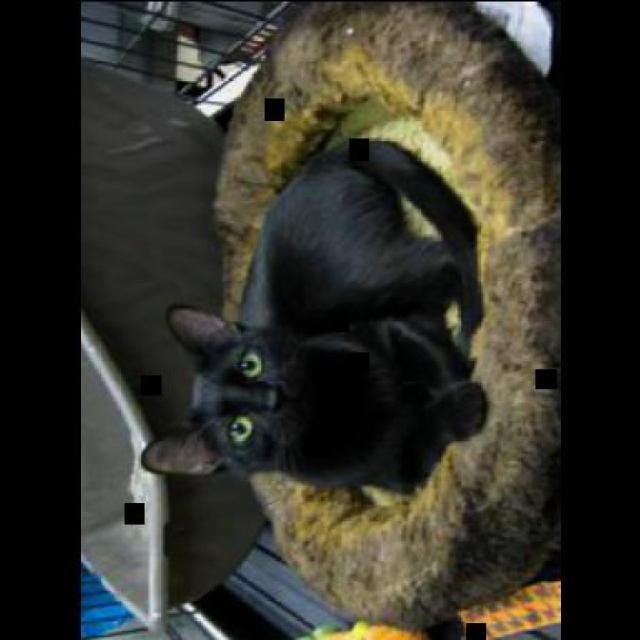unauthorized: (140, 0, 560, 635), (140, 136, 489, 496)
